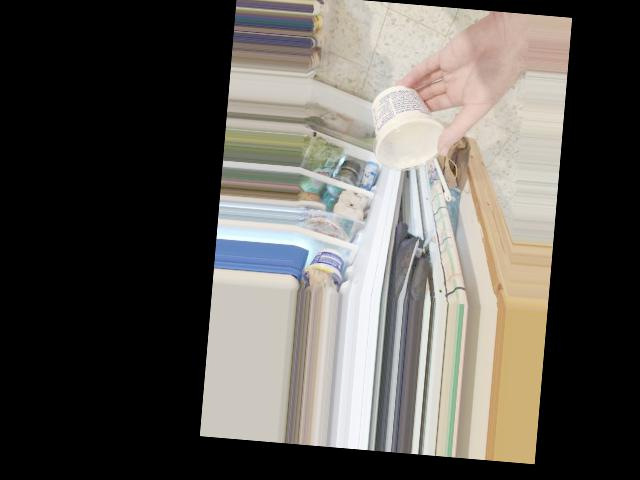cotage: (373, 80, 443, 172)
